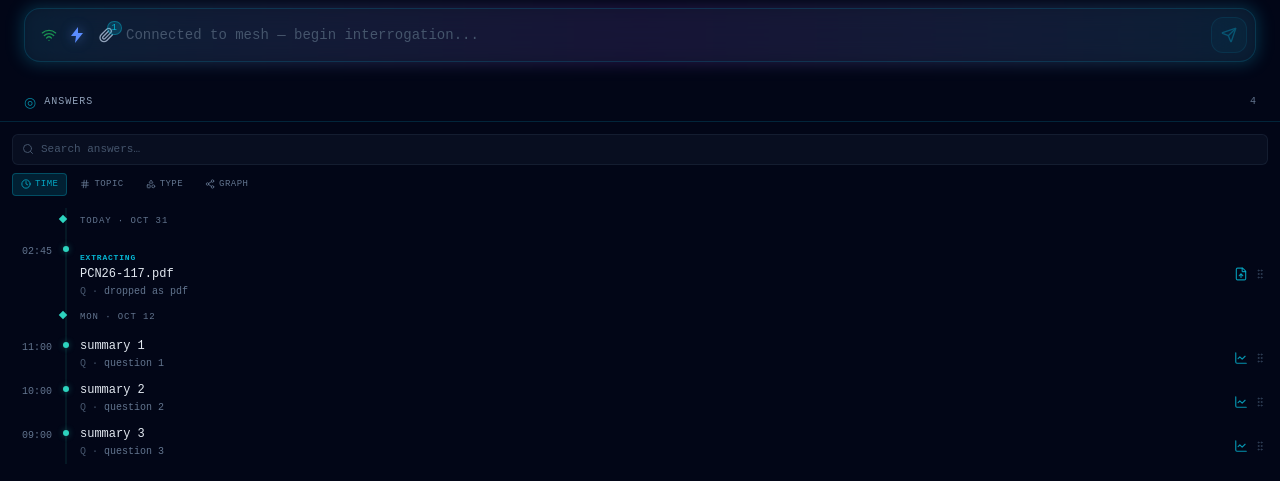
TYPE filter and the composer badge › badge click filters the rail to ingest entries, shows the chip, and clearing restores
Expected: the element that starts with "TODAY · OCT 31" shows "summary 1", [80, 339, 145, 353]
Expected: the element showing "02:45 extracting PCN26-117.pdf Q · dropped as pdf" is shown, [8, 236, 1272, 304]
Click the button "1".
click(114, 28)  # box [107, 21, 122, 35]
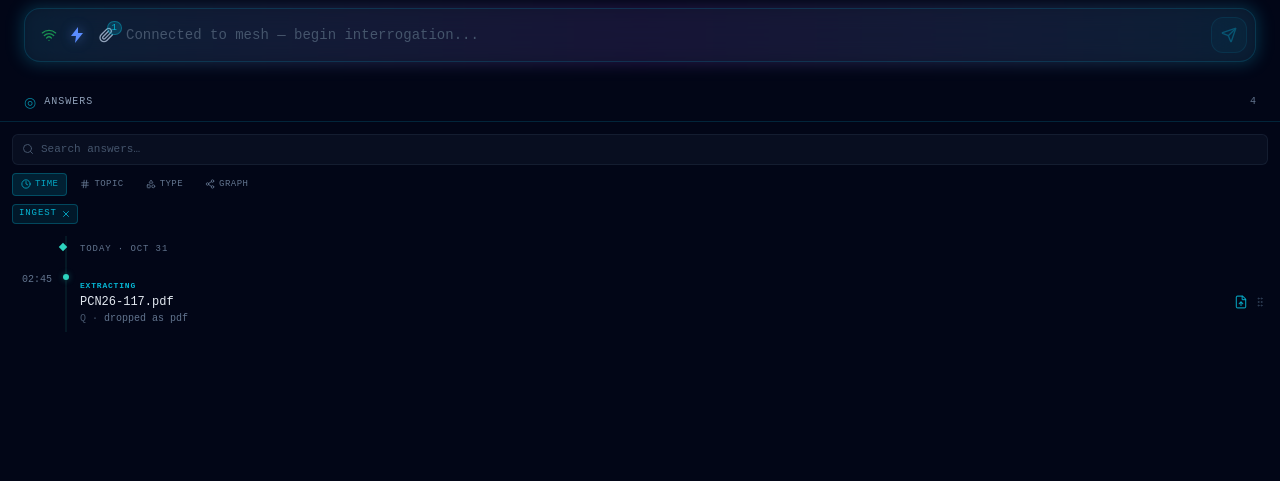
Expected: the element showing "02:45 extracting PCN26-117.pdf Q · dropped as pdf" is shown, [8, 264, 1272, 332]
Expected: the button "Ingest" is shown
Click the button "Ingest".
click(45, 214)  # box [12, 204, 78, 224]
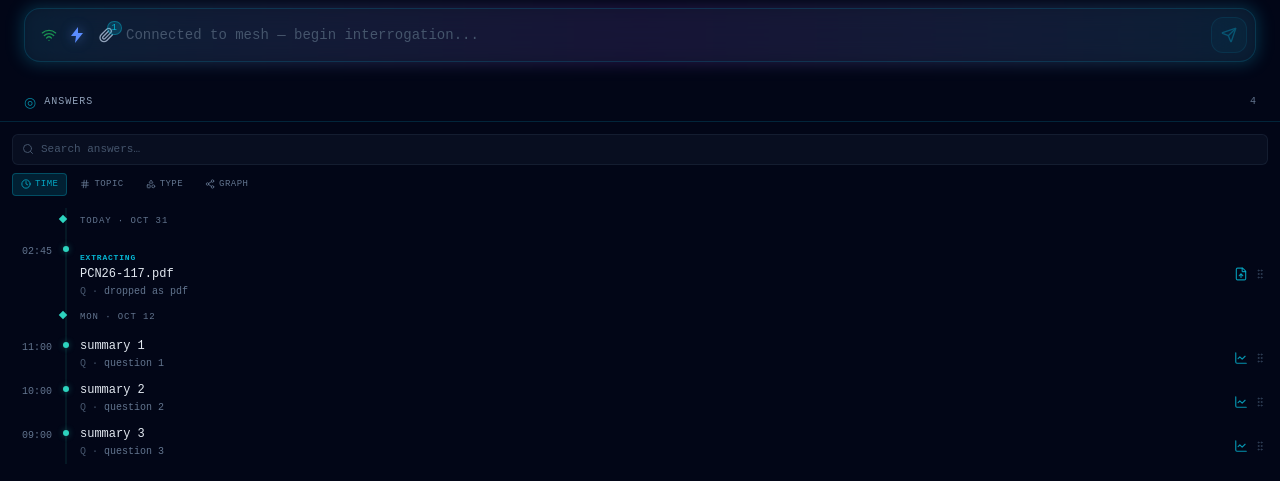
Expected: the element that starts with "TODAY · OCT 31" shows "summary 1", [80, 339, 145, 353]
